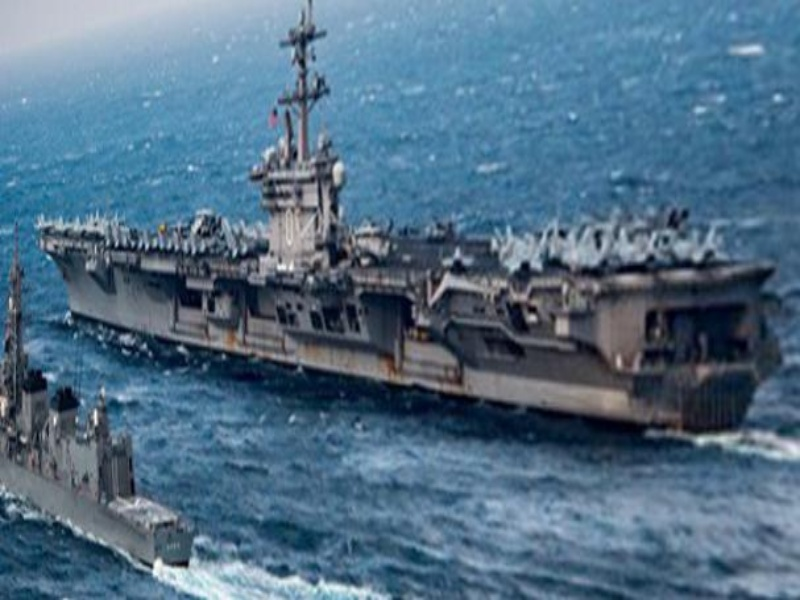carrier: (47, 116, 765, 360)
cruise: (5, 296, 193, 567)
